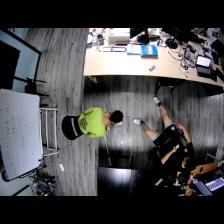normal: (132, 97, 198, 173), (74, 106, 125, 139)
